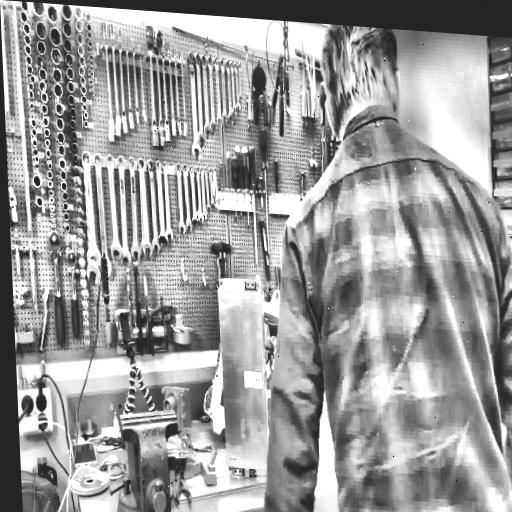battery_module: (220, 288, 268, 471)
